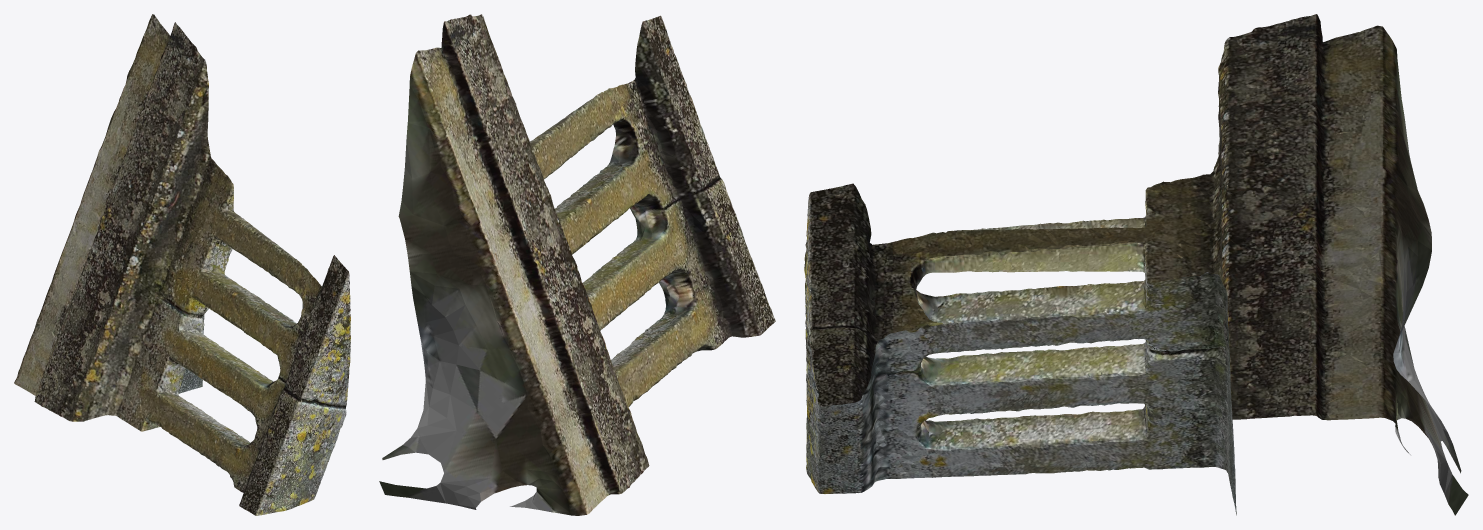
The model's file is Tile_+006_+013.obj.
3 renders of one model, left to right at view 1: azimuth 30°, elevation 25°; view 2: azimuth 150°, elevation 25°; view 3: azimuth 270°, elevation 25°, orthographic. The views are drawn at different scales.
Size of the model in its own units: 0.5616 by 1.31 by 1.57.
Materials: 1 (1 with a texture image).
